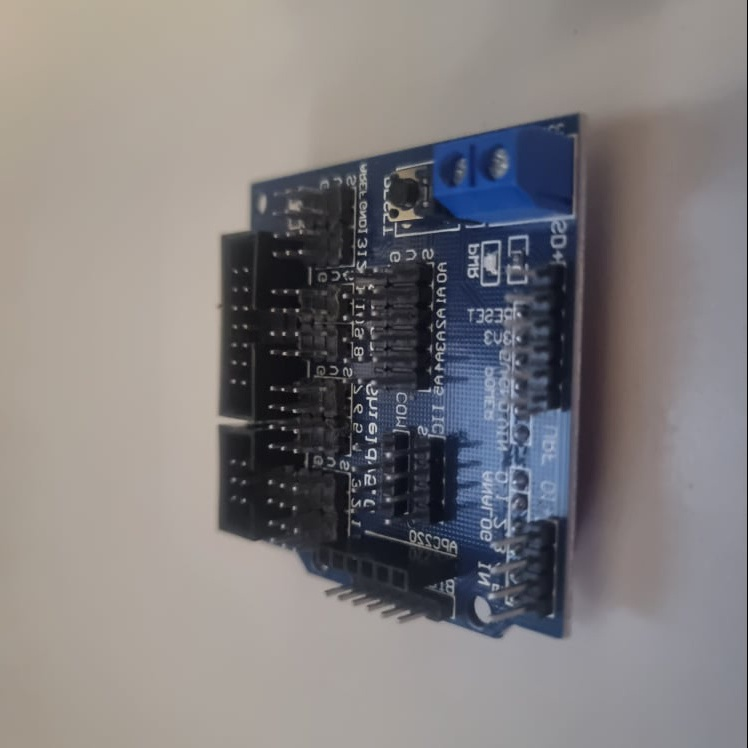5V EXPANSION: (210, 113, 577, 645)
